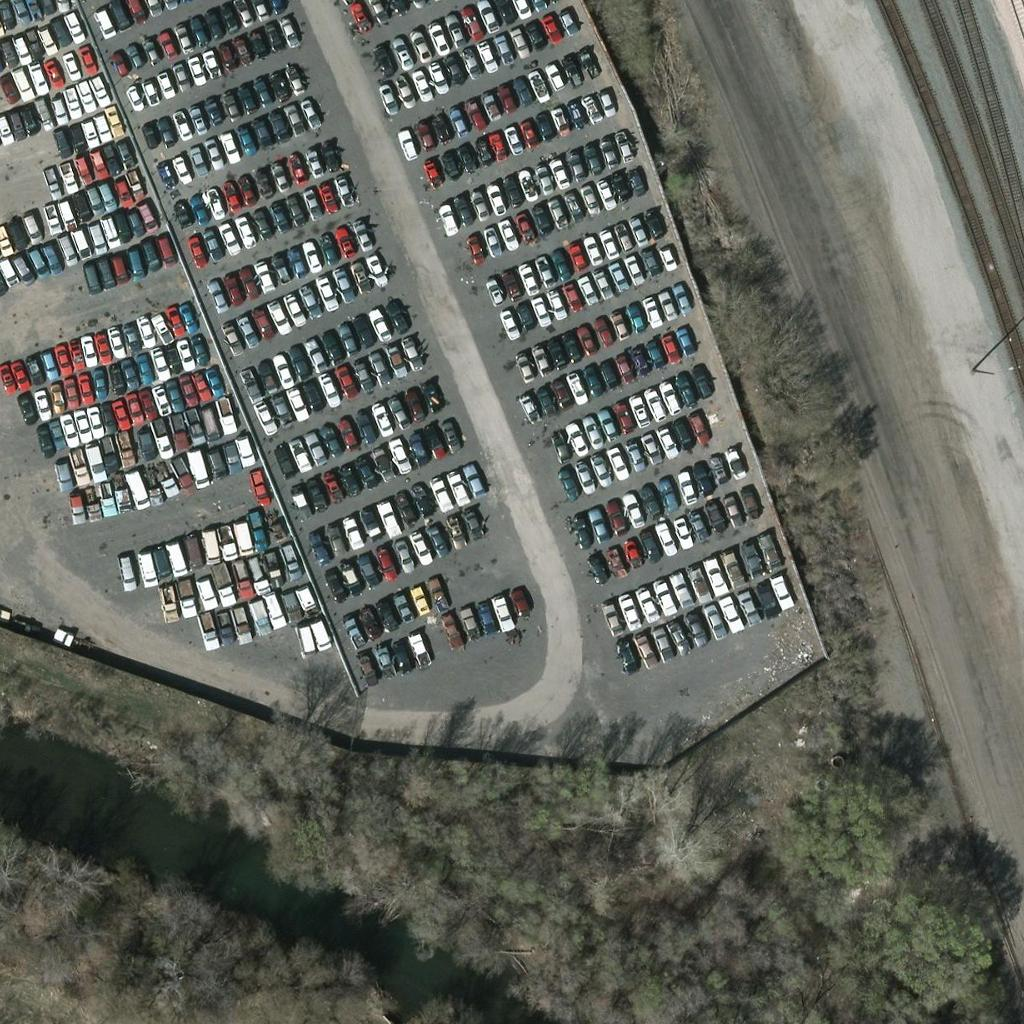car: (87, 3, 121, 37), (550, 3, 584, 37), (213, 5, 247, 39), (456, 8, 490, 42), (534, 8, 568, 42), (198, 10, 232, 44), (57, 11, 91, 45), (271, 13, 305, 47), (42, 15, 76, 49), (438, 15, 472, 49), (183, 17, 217, 51), (519, 17, 553, 51), (255, 18, 289, 52), (423, 22, 457, 56), (29, 23, 63, 57), (168, 23, 202, 57), (502, 23, 536, 57), (239, 26, 273, 60), (18, 29, 52, 63), (151, 30, 185, 64), (405, 30, 439, 64), (485, 30, 519, 64), (5, 32, 39, 66), (224, 32, 258, 66), (470, 36, 504, 70), (135, 37, 169, 71), (208, 38, 242, 72), (386, 38, 420, 72), (119, 41, 153, 75), (71, 42, 105, 76), (365, 44, 399, 78), (453, 44, 487, 78), (571, 44, 605, 78), (193, 45, 227, 79), (55, 49, 89, 83), (104, 50, 138, 84), (437, 50, 471, 84), (555, 50, 589, 84), (178, 53, 212, 87), (163, 59, 197, 93), (421, 59, 455, 93), (21, 60, 55, 94), (541, 63, 575, 97), (4, 65, 38, 99), (148, 65, 182, 99), (281, 65, 315, 99), (520, 67, 554, 101), (405, 68, 439, 102), (131, 72, 165, 106), (264, 72, 298, 106), (387, 74, 421, 108), (84, 75, 118, 109), (505, 76, 539, 110), (246, 77, 280, 111), (70, 79, 104, 113), (117, 79, 151, 113), (371, 80, 405, 114), (490, 82, 524, 116), (589, 83, 623, 117), (55, 86, 89, 120), (231, 86, 265, 120), (474, 89, 508, 123), (216, 91, 250, 125), (574, 91, 608, 125), (291, 93, 325, 127), (41, 94, 75, 128), (197, 95, 231, 129), (557, 96, 591, 130), (27, 97, 61, 131), (459, 99, 493, 133), (279, 100, 313, 134), (96, 102, 130, 136), (12, 103, 46, 137), (182, 103, 216, 137), (543, 103, 577, 137), (443, 105, 477, 139), (260, 106, 294, 140), (528, 107, 562, 141), (84, 108, 118, 142), (165, 109, 199, 143), (73, 113, 107, 147), (244, 113, 278, 147), (425, 113, 459, 147), (512, 114, 546, 148), (149, 118, 183, 152), (60, 120, 94, 154), (133, 121, 167, 155), (228, 121, 262, 155), (410, 121, 444, 155), (496, 121, 530, 155), (45, 123, 79, 157), (212, 128, 246, 162), (481, 128, 515, 162), (393, 131, 427, 165), (608, 131, 642, 165), (196, 135, 230, 169), (467, 135, 501, 169), (591, 137, 625, 171), (109, 138, 143, 172), (313, 139, 347, 173), (450, 141, 484, 175), (180, 143, 214, 177), (576, 143, 610, 177), (95, 145, 129, 179), (299, 147, 333, 181), (81, 148, 115, 182), (162, 149, 196, 183), (163, 149, 197, 183), (433, 150, 467, 184), (560, 150, 594, 184), (416, 153, 450, 187), (67, 155, 101, 189), (147, 155, 181, 189), (280, 156, 314, 190), (542, 157, 576, 191), (264, 161, 298, 195), (619, 162, 653, 196), (53, 163, 87, 197), (529, 164, 563, 198), (35, 168, 69, 202), (246, 168, 280, 202), (511, 168, 545, 202), (119, 169, 153, 203), (602, 169, 636, 203), (326, 171, 360, 205), (588, 174, 622, 208), (106, 175, 140, 209), (230, 175, 264, 209), (495, 176, 529, 210), (311, 178, 345, 212), (92, 179, 126, 213), (572, 181, 606, 215), (79, 182, 113, 216), (214, 182, 248, 216), (479, 183, 513, 217), (294, 184, 328, 218), (556, 186, 590, 220), (463, 189, 497, 223), (198, 190, 232, 224), (67, 191, 101, 225), (279, 193, 313, 227), (538, 194, 572, 228), (449, 195, 483, 229), (51, 197, 85, 231), (183, 197, 217, 231), (131, 199, 165, 233), (166, 199, 200, 233), (264, 199, 298, 233), (525, 200, 559, 234), (431, 204, 465, 238), (36, 205, 70, 239), (117, 205, 151, 239), (637, 205, 671, 239), (244, 207, 278, 241), (505, 207, 539, 241), (104, 209, 138, 243), (14, 211, 48, 245), (227, 212, 261, 246), (94, 216, 128, 250), (490, 216, 524, 250), (622, 216, 656, 250), (212, 219, 246, 253), (347, 221, 381, 255), (475, 222, 509, 256), (80, 223, 114, 257), (607, 224, 641, 258), (63, 226, 97, 260), (328, 226, 362, 260), (195, 227, 229, 261), (593, 229, 627, 263), (458, 230, 492, 264), (52, 232, 86, 266), (179, 232, 213, 266), (149, 234, 183, 268), (577, 234, 611, 268), (132, 236, 166, 270), (313, 236, 347, 270), (649, 239, 683, 273), (561, 240, 595, 274), (297, 241, 331, 275), (35, 243, 69, 277), (632, 243, 666, 277), (20, 245, 54, 279), (118, 246, 152, 280), (281, 249, 315, 283), (546, 249, 580, 283), (102, 250, 136, 284), (615, 250, 649, 284), (360, 251, 394, 285), (6, 252, 40, 286), (264, 254, 298, 288), (527, 256, 561, 290), (90, 257, 124, 291), (600, 258, 634, 292), (344, 260, 378, 294), (73, 261, 107, 295), (249, 263, 283, 297), (510, 263, 544, 297), (326, 264, 360, 298), (585, 264, 619, 298), (234, 269, 268, 303), (497, 271, 531, 305), (569, 271, 603, 305), (308, 272, 342, 306), (217, 276, 251, 310), (480, 278, 514, 312), (556, 278, 590, 312), (200, 280, 234, 314), (293, 282, 327, 316), (666, 284, 700, 318), (539, 286, 573, 320), (277, 291, 311, 325), (523, 291, 557, 325), (649, 291, 683, 325), (262, 298, 296, 332), (507, 298, 541, 332), (635, 298, 669, 332), (171, 299, 205, 333), (380, 300, 414, 334), (380, 301, 414, 335), (158, 302, 192, 336), (620, 303, 654, 337), (245, 305, 279, 339), (362, 308, 396, 342), (492, 308, 526, 342), (144, 311, 178, 345), (230, 311, 264, 345), (603, 312, 637, 346), (129, 313, 163, 347), (347, 315, 381, 349), (114, 318, 148, 352), (588, 318, 622, 352), (213, 320, 247, 354), (667, 323, 701, 357), (99, 324, 133, 358), (331, 324, 365, 358), (570, 327, 604, 361), (652, 329, 686, 363), (86, 330, 120, 364), (182, 330, 216, 364), (316, 330, 350, 364), (71, 332, 105, 366), (557, 332, 591, 366), (394, 335, 428, 369), (638, 336, 672, 370), (59, 337, 93, 371), (168, 337, 202, 371), (154, 338, 188, 372), (298, 338, 332, 372), (540, 338, 574, 372), (45, 340, 79, 374), (379, 340, 413, 374), (623, 342, 657, 376), (141, 345, 175, 379), (31, 346, 65, 380), (283, 347, 317, 381), (524, 347, 558, 381), (362, 348, 396, 382), (16, 350, 50, 384), (126, 350, 160, 384), (608, 350, 642, 384), (505, 353, 539, 387), (112, 355, 146, 389), (267, 355, 301, 389), (2, 356, 36, 390), (345, 356, 379, 390), (589, 357, 623, 391), (99, 360, 133, 394), (197, 361, 231, 395), (251, 362, 285, 396), (328, 362, 362, 396), (575, 362, 609, 396), (83, 365, 117, 399), (183, 367, 217, 401), (686, 367, 720, 401), (68, 369, 102, 403), (170, 371, 204, 405), (311, 371, 345, 405), (559, 371, 593, 405), (236, 372, 270, 406), (53, 374, 87, 408), (669, 374, 703, 408), (544, 375, 578, 409), (156, 376, 190, 410), (40, 379, 74, 413), (295, 379, 329, 413), (653, 382, 687, 416), (146, 383, 180, 417), (529, 384, 563, 418), (25, 386, 59, 420), (129, 386, 163, 420), (279, 386, 313, 420), (8, 389, 42, 423), (118, 389, 152, 423), (399, 389, 433, 423), (638, 389, 672, 423), (511, 391, 545, 425), (264, 392, 298, 426), (623, 394, 657, 428), (103, 396, 137, 430), (382, 397, 416, 431), (90, 399, 124, 433), (247, 399, 281, 433), (607, 401, 641, 435), (76, 402, 110, 436), (207, 403, 241, 437), (366, 403, 400, 437), (65, 406, 99, 440), (682, 408, 716, 442), (591, 409, 625, 443), (52, 411, 86, 445), (178, 411, 212, 445), (194, 411, 228, 445), (349, 413, 383, 447), (38, 415, 72, 449), (576, 415, 610, 449), (433, 416, 467, 450), (666, 416, 700, 450), (161, 418, 195, 452), (331, 420, 365, 454), (28, 423, 62, 457), (650, 423, 684, 457), (145, 424, 179, 458), (561, 424, 595, 458), (416, 425, 450, 459), (401, 429, 435, 463), (129, 430, 163, 464), (229, 431, 263, 465), (633, 431, 667, 465), (544, 432, 578, 466), (300, 434, 334, 468), (110, 436, 144, 470), (214, 436, 248, 470), (383, 436, 417, 470), (92, 438, 126, 472), (618, 438, 652, 472), (286, 442, 320, 476), (366, 445, 400, 479), (600, 445, 634, 479), (199, 446, 233, 480), (720, 448, 754, 482), (268, 449, 302, 483), (79, 450, 113, 484), (348, 452, 382, 486), (584, 452, 618, 486), (63, 453, 97, 487), (701, 453, 735, 487), (185, 457, 219, 491), (45, 458, 79, 492), (567, 458, 601, 492), (168, 460, 202, 494), (333, 460, 367, 494), (151, 464, 185, 498), (552, 464, 586, 498), (687, 464, 721, 498), (458, 467, 492, 501), (315, 470, 349, 504), (242, 472, 276, 506), (670, 472, 704, 506), (441, 474, 475, 508), (123, 475, 157, 509), (298, 475, 332, 509), (426, 478, 460, 512), (652, 479, 686, 513), (279, 482, 313, 516), (91, 485, 125, 519), (407, 485, 441, 519), (733, 485, 767, 519), (635, 488, 669, 522), (75, 490, 109, 524), (716, 491, 750, 525), (60, 492, 94, 526), (390, 494, 424, 528), (618, 495, 652, 529), (697, 495, 731, 529), (372, 502, 406, 536), (601, 502, 635, 536), (455, 505, 489, 539), (354, 506, 388, 540), (681, 507, 715, 541), (583, 510, 617, 544), (438, 512, 472, 546), (665, 513, 699, 547), (566, 516, 600, 550), (242, 517, 276, 551), (337, 519, 371, 553), (648, 519, 682, 553), (419, 522, 453, 556), (228, 526, 262, 560), (321, 526, 355, 560), (404, 528, 438, 562), (633, 531, 667, 565), (208, 532, 242, 566), (193, 534, 227, 568), (303, 534, 337, 568), (385, 536, 419, 570), (615, 536, 649, 570), (753, 536, 787, 570), (178, 539, 212, 573), (737, 543, 771, 577), (600, 544, 634, 578), (369, 545, 403, 579), (160, 546, 194, 580), (274, 548, 308, 582), (146, 549, 180, 583), (580, 549, 614, 583), (716, 551, 750, 585), (130, 554, 164, 588), (349, 554, 383, 588), (111, 555, 145, 589), (256, 556, 290, 590), (335, 560, 369, 594), (699, 561, 733, 595), (227, 566, 261, 600), (684, 566, 718, 600), (244, 567, 278, 601), (318, 570, 352, 604), (762, 571, 796, 605), (208, 574, 242, 608), (190, 575, 224, 609), (664, 576, 698, 610), (420, 578, 454, 612), (289, 581, 323, 615), (647, 582, 681, 616), (749, 582, 783, 616), (404, 585, 438, 619), (171, 586, 205, 620), (272, 587, 306, 621), (503, 587, 537, 621), (730, 587, 764, 621), (632, 588, 666, 622), (151, 589, 185, 623), (257, 590, 291, 624), (387, 592, 421, 626), (485, 593, 519, 627), (241, 595, 275, 629), (614, 595, 648, 629), (712, 595, 746, 629), (468, 600, 502, 634), (595, 603, 629, 637), (696, 603, 730, 637), (452, 605, 486, 639), (225, 609, 259, 643), (679, 609, 713, 643), (432, 610, 466, 644), (208, 612, 242, 646), (334, 614, 368, 648), (193, 615, 227, 649), (302, 617, 336, 651), (662, 617, 696, 651), (642, 622, 676, 656), (290, 625, 324, 659), (404, 632, 438, 666), (628, 632, 662, 666), (385, 637, 419, 671), (367, 641, 401, 675), (349, 649, 383, 683), (103, 0, 137, 33), (471, 0, 505, 33), (0, 106, 33, 140), (0, 219, 33, 253), (227, 0, 261, 32), (343, 0, 377, 32), (0, 70, 27, 104), (244, 0, 278, 26), (488, 0, 522, 26), (0, 36, 26, 70), (0, 254, 26, 288), (0, 255, 26, 289), (3, 0, 37, 24), (359, 0, 393, 23), (0, 361, 23, 395), (119, 0, 153, 22), (0, 110, 21, 144), (0, 224, 21, 258), (0, 0, 23, 31), (504, 0, 538, 19), (259, 0, 293, 18), (30, 0, 64, 16)
